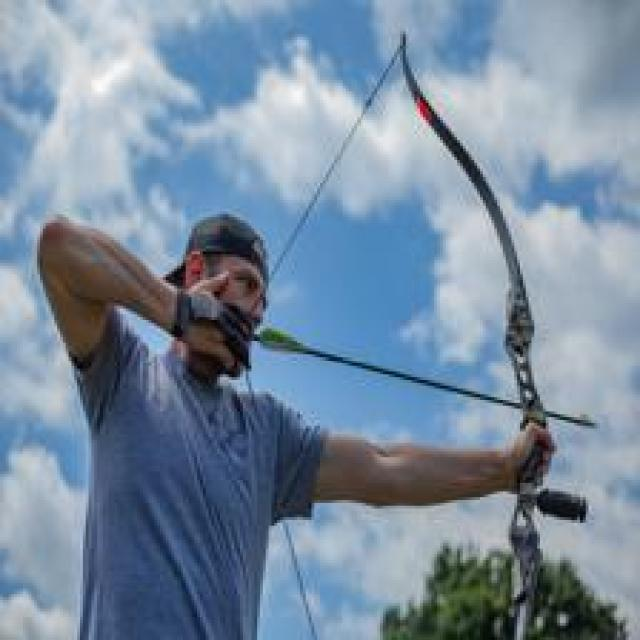X-Bow: (353, 23, 621, 640)
